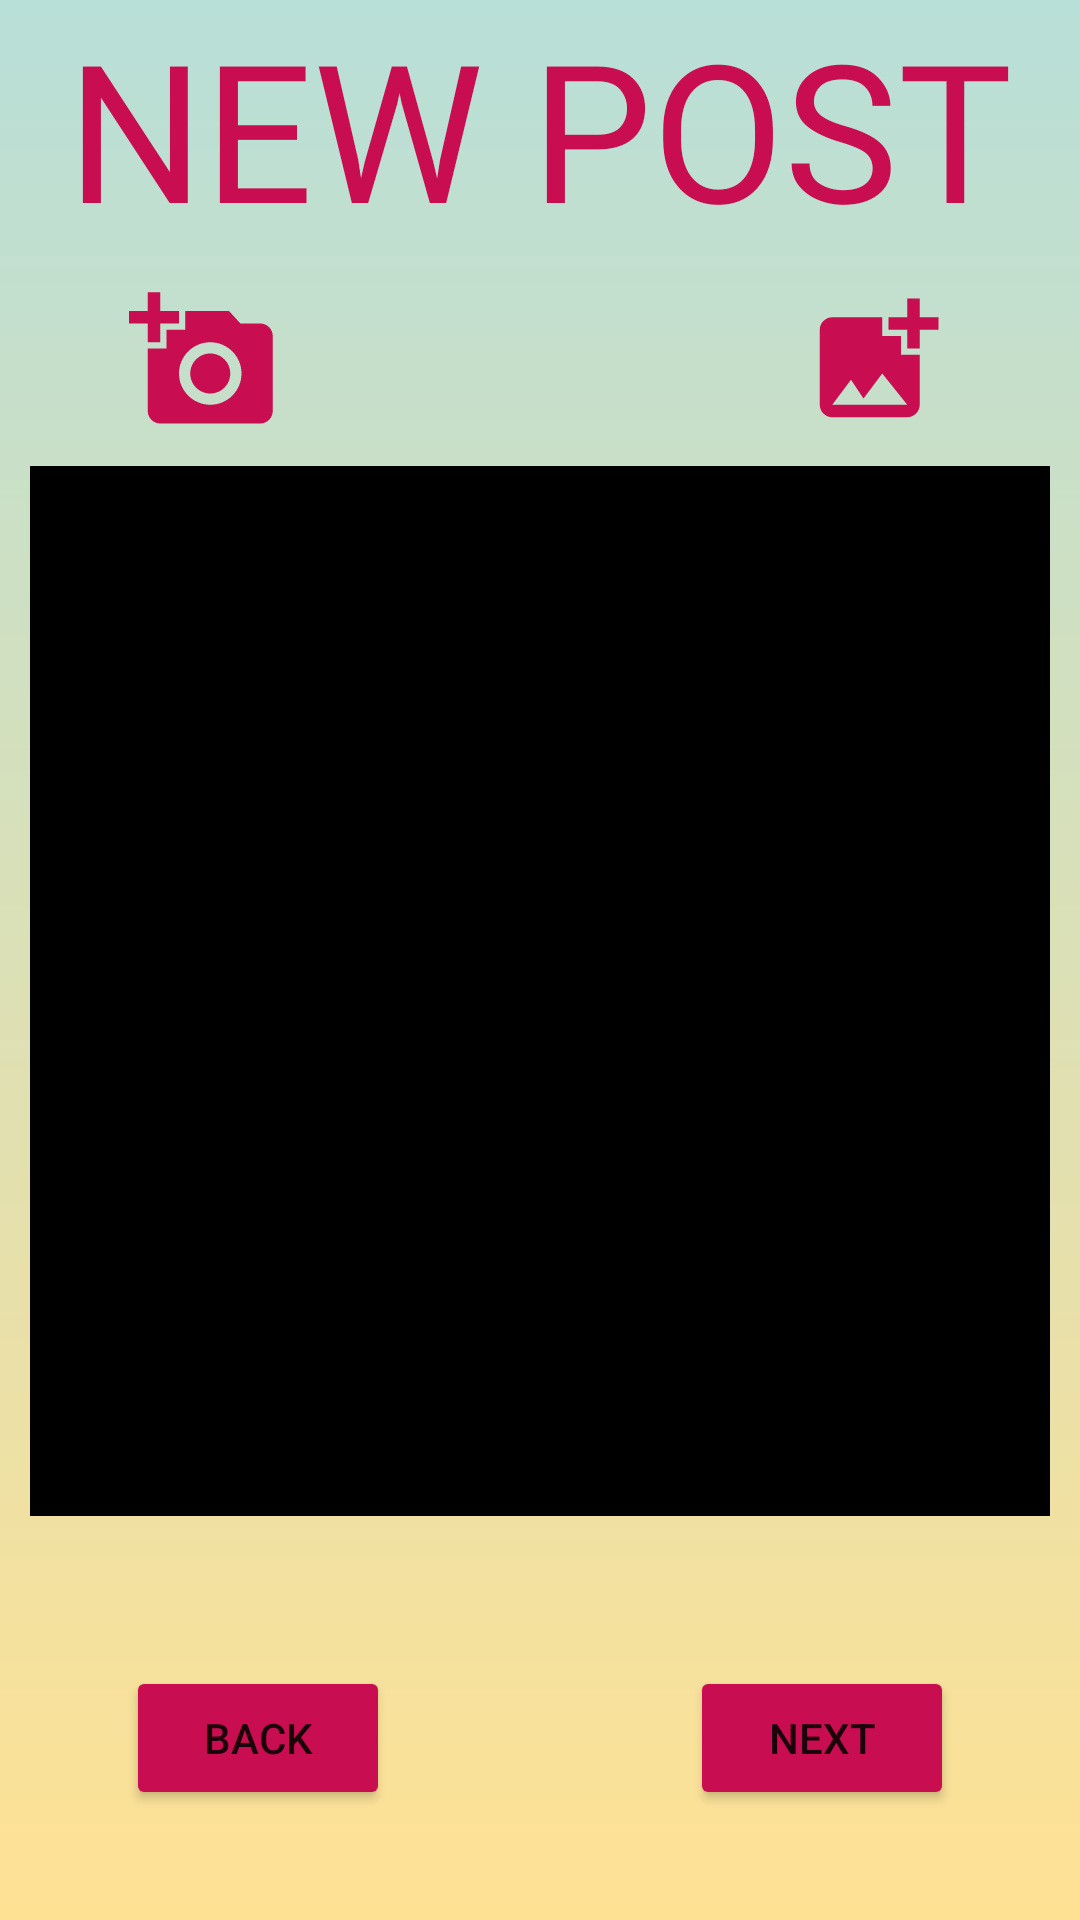

Point at icon controls on the screen. Image size 1080×1920, points as point (x, y).
camera: point (201, 358)
gallery: point (879, 358)
